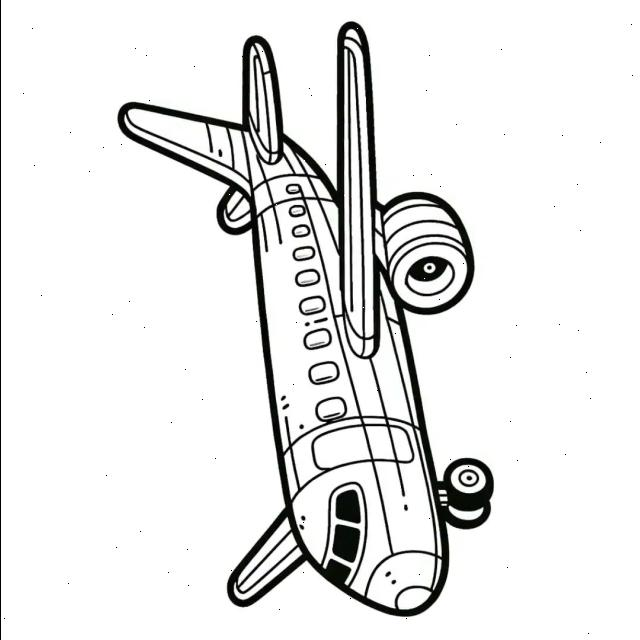aircraft: (85, 0, 532, 636)
